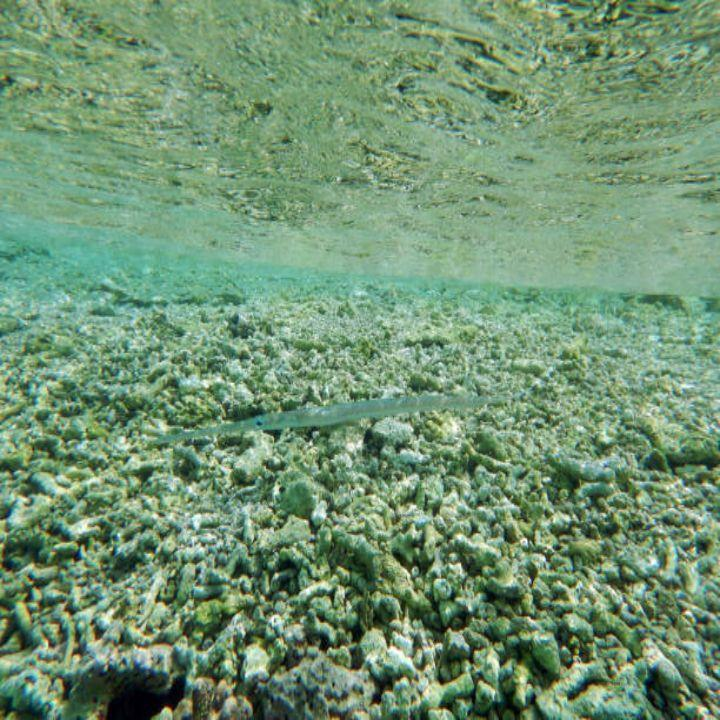Dead Coral: (36, 303, 684, 675)
